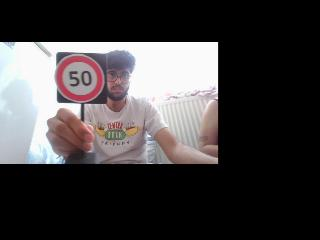Speedlimit_50: (56, 52, 106, 104)
